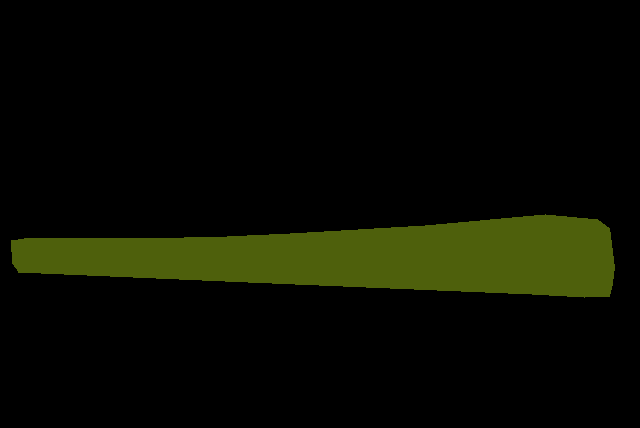Train: (11, 214, 614, 297)
